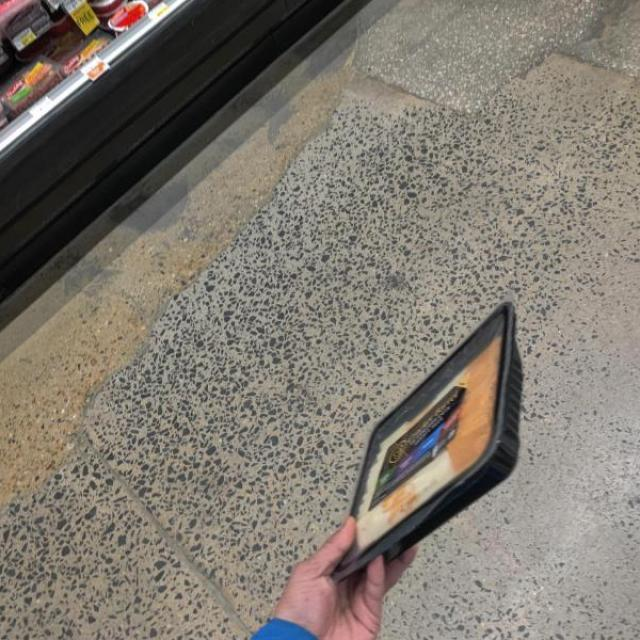Cheese: (340, 305, 524, 578)
